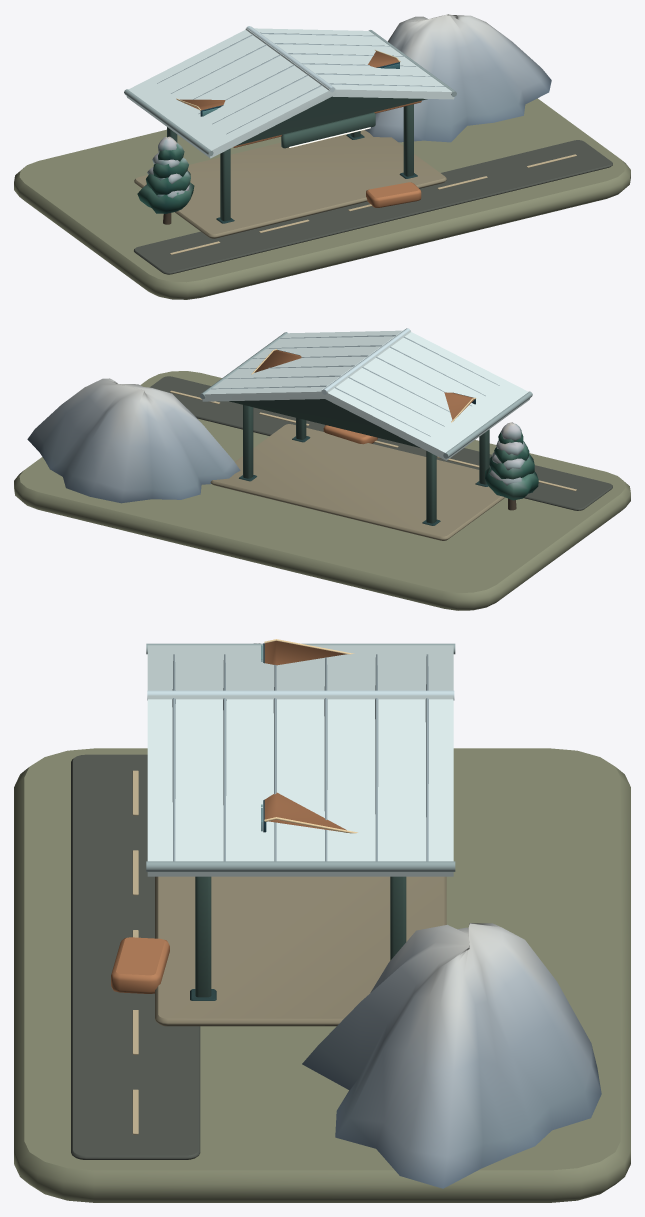
Rendered from wilderness_atlas.glb.
3 views of the same model, one above another, from view 1: azimuth 30°, elevation 25°; view 2: azimuth 150°, elevation 25°; view 3: azimuth 270°, elevation 25° (orthographic). The views are drawn at different scales.
Visible parts, largest first — view 1: WildernessAtlas; view 2: WildernessAtlas; view 3: WildernessAtlas.
Boxes of the visible parts, x1,y1,x2,y2 form: WildernessAtlas: (14,14,630,299); WildernessAtlas: (14,328,630,610); WildernessAtlas: (14,639,630,1202).
Size of the model in its own units: 11.28 by 3.13 by 6.54.
